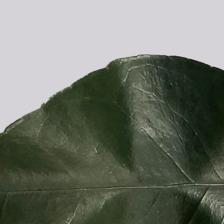healthy: (11, 84, 224, 219)
